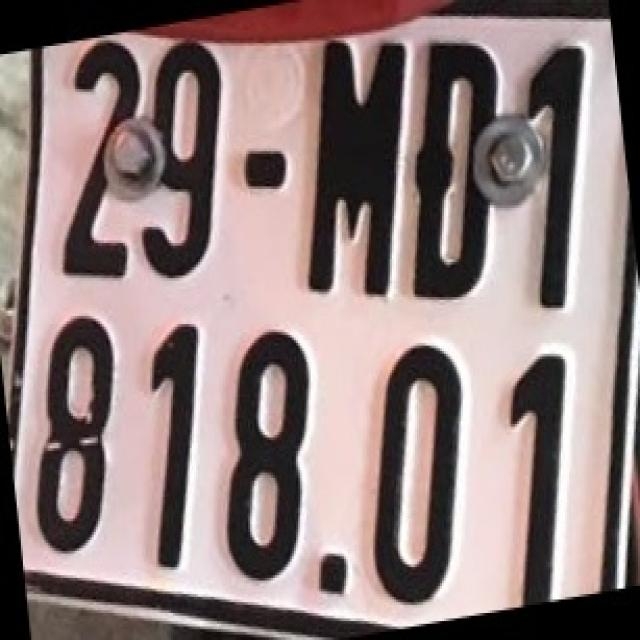0: (367, 335, 469, 607)
1: (523, 42, 594, 312), (500, 348, 576, 600), (143, 316, 205, 570)
2: (58, 37, 140, 282)
8: (222, 320, 314, 585), (31, 308, 117, 556)
9: (142, 35, 225, 281)
D: (408, 38, 502, 308)
M: (303, 34, 407, 298)
